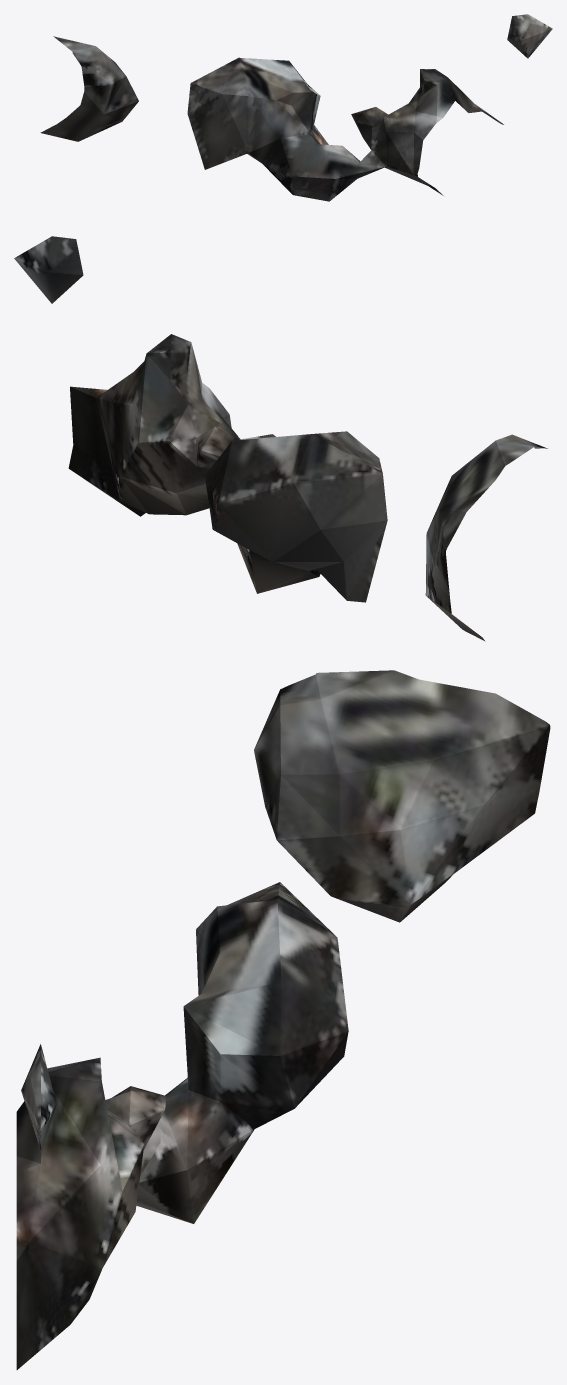
The picture shows the model from 3 angles, top to bottom: view 1: azimuth 30°, elevation 25°; view 2: azimuth 150°, elevation 25°; view 3: azimuth 270°, elevation 25°; orthographic projection. The views are drawn at different scales.
Bounding box in the file's own units: 0.658 × 0.2811 × 0.3694.
Materials: 1 (1 with a texture image).
